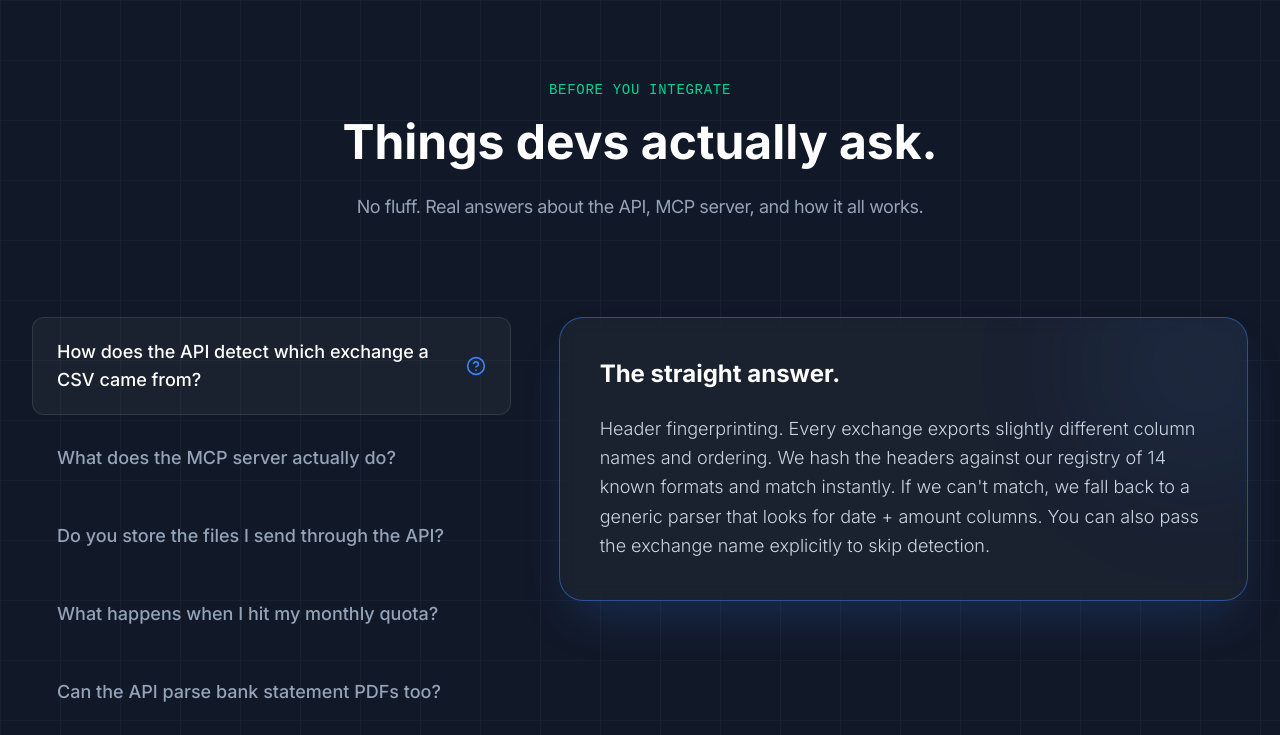
FAQ Component › Content › addresses file storage concerns
Click the button "Do you store the files I send through the API?" at (271, 536), box left=32, top=501, right=511, bottom=571
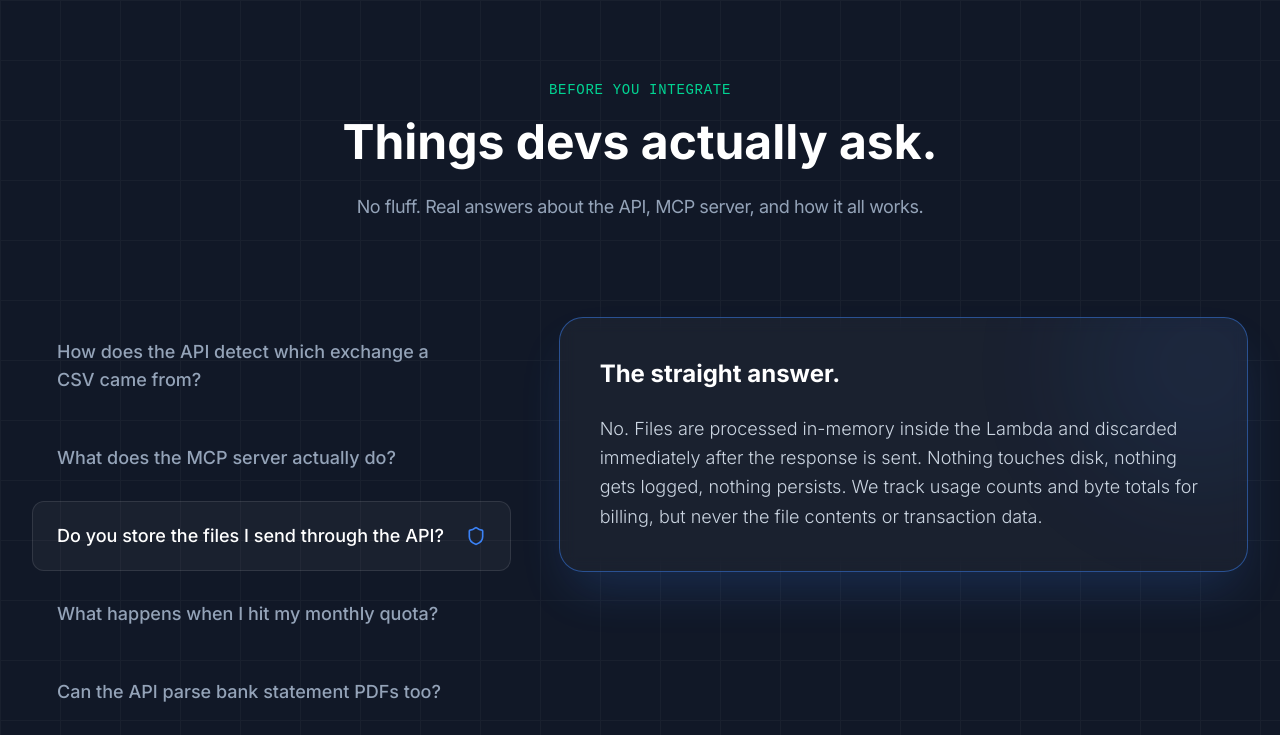
Now the text "processed in-memory" is shown, box left=600, top=418, right=1198, bottom=527
